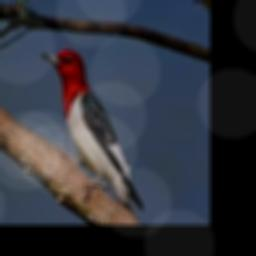Woodpecker: (42, 49, 144, 218)
